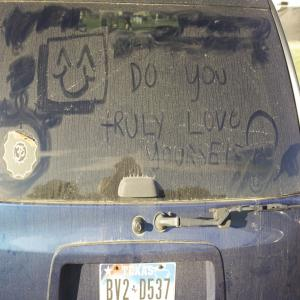Vehicle-registration-plate: (94, 261, 186, 295)
